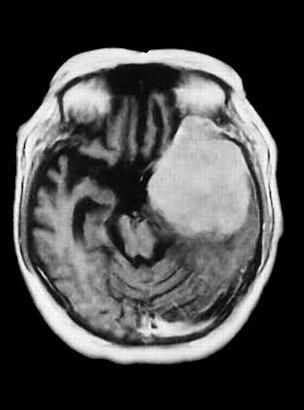Tumour-Meningioma: (147, 110, 266, 268)
